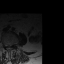CCS_normal: (8, 43, 9, 50)
LFS_stenosis: (11, 42, 13, 47)
LLS_stenosis: (9, 43, 11, 48)
RFS_normal: (4, 42, 6, 48)
RLS_normal: (6, 43, 8, 49)
